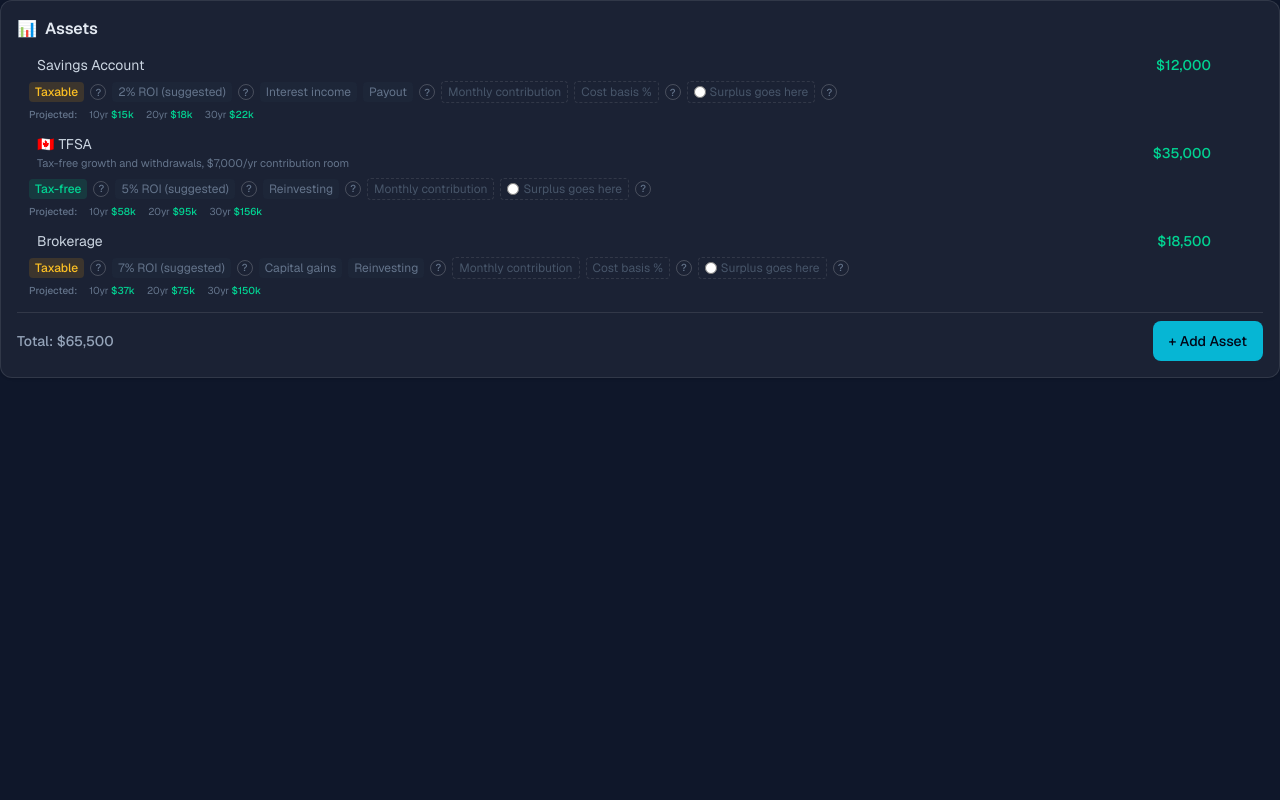
Test: AssetEntry component › shows add form when Add Asset is clicked
Click the button "+ Add Asset" at [1208, 341], box [1153, 321, 1263, 361]
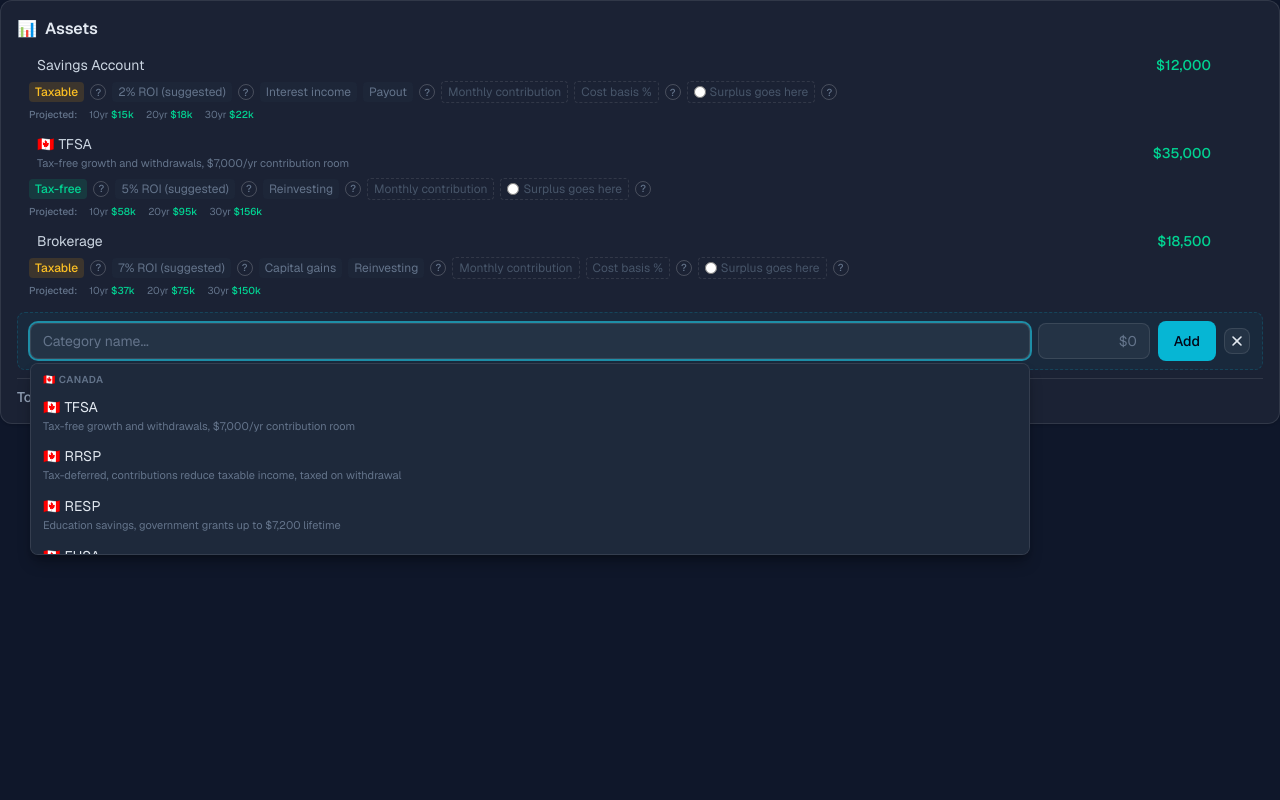
Now the field named "New asset category" is shown, box [30, 323, 1030, 359]
Now the field named "New asset amount" is shown, box [1038, 323, 1150, 359]
